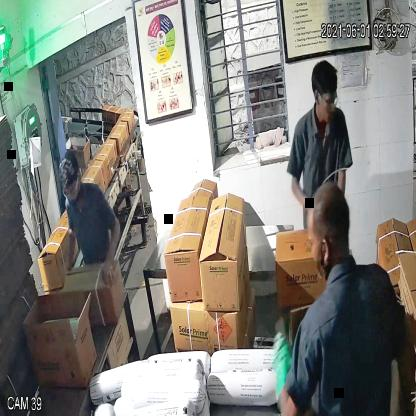goggles: (60, 177, 82, 204)
